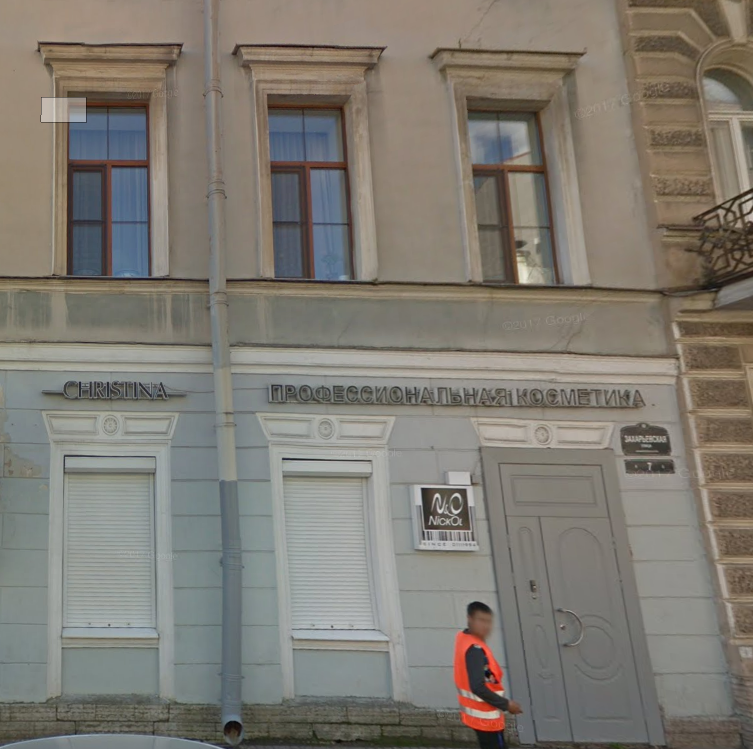door: (483, 448, 659, 744)
signboard: (266, 374, 650, 417), (43, 374, 185, 404)
window: (465, 107, 556, 287), (62, 471, 155, 631), (270, 105, 345, 278), (72, 103, 146, 274), (292, 477, 367, 631)
